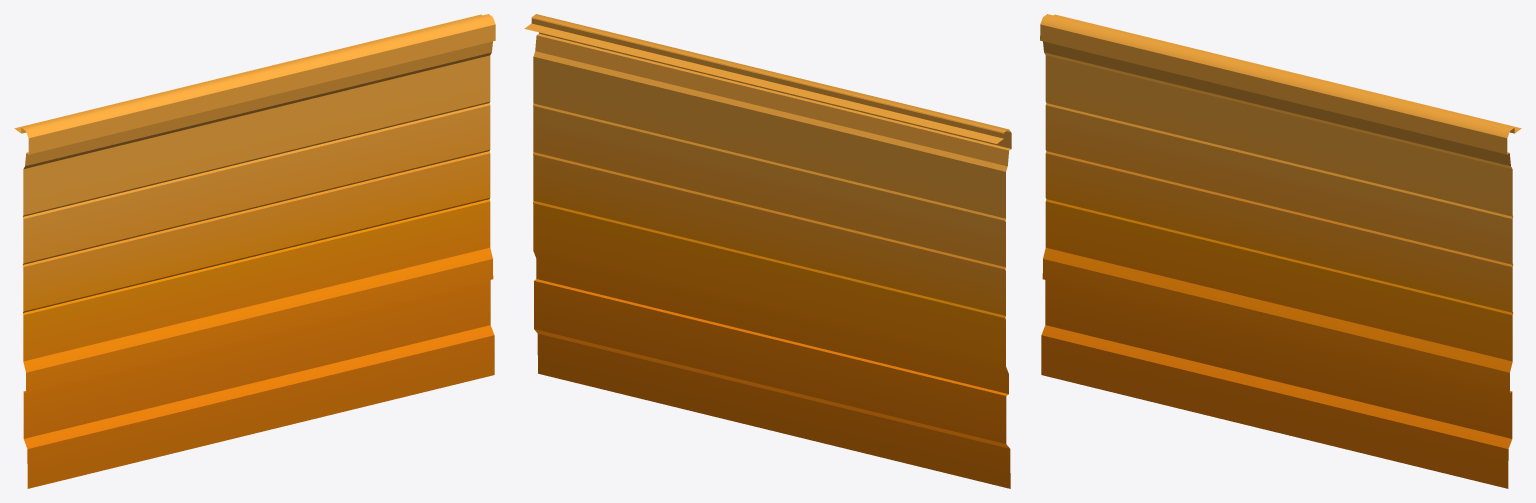
Rendered from Wall_02.fbx.
The picture shows the model from 3 angles, left to right: view 1: azimuth 30°, elevation 25°; view 2: azimuth 150°, elevation 25°; view 3: azimuth 330°, elevation 25°; orthographic projection.
Visible parts, largest first — view 1: Wall_02; view 2: Wall_02; view 3: Wall_02.
Part boxes in pixels (x1,y1,x2,y2): Wall_02: (14, 14, 495, 488); Wall_02: (524, 14, 1011, 488); Wall_02: (1040, 14, 1521, 488).
Size of the model in its own units: 400 by 292 by 21.71.
